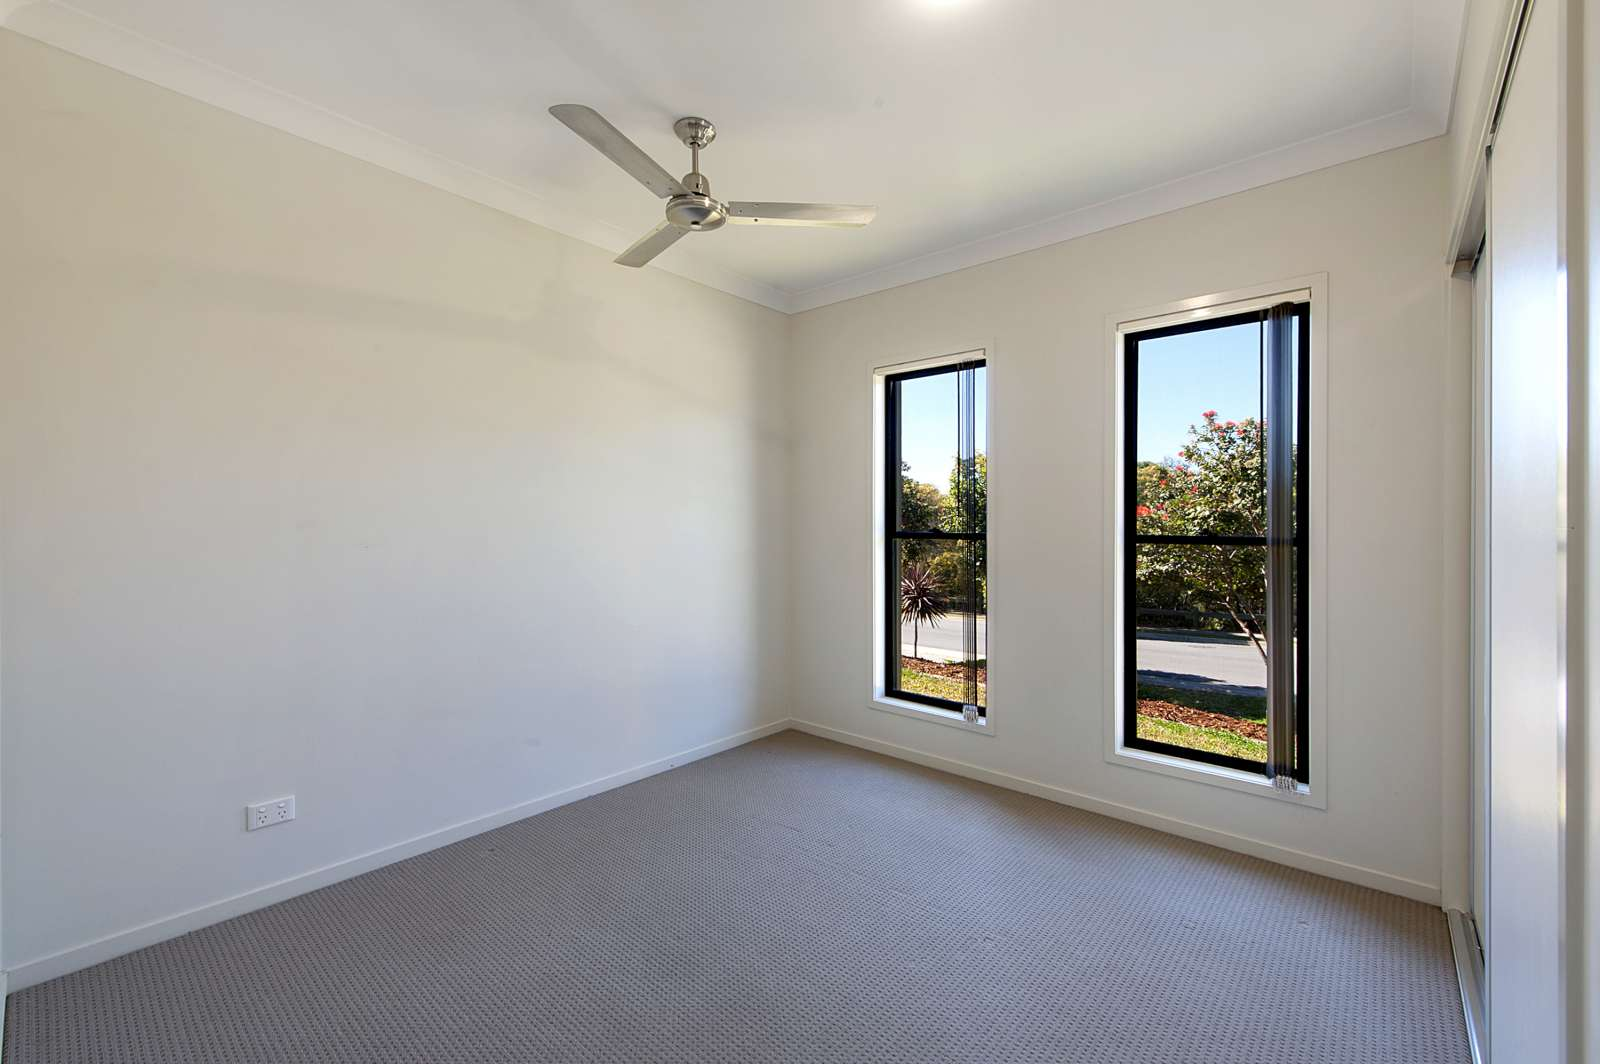ceiling fan: (501, 78, 910, 284)
